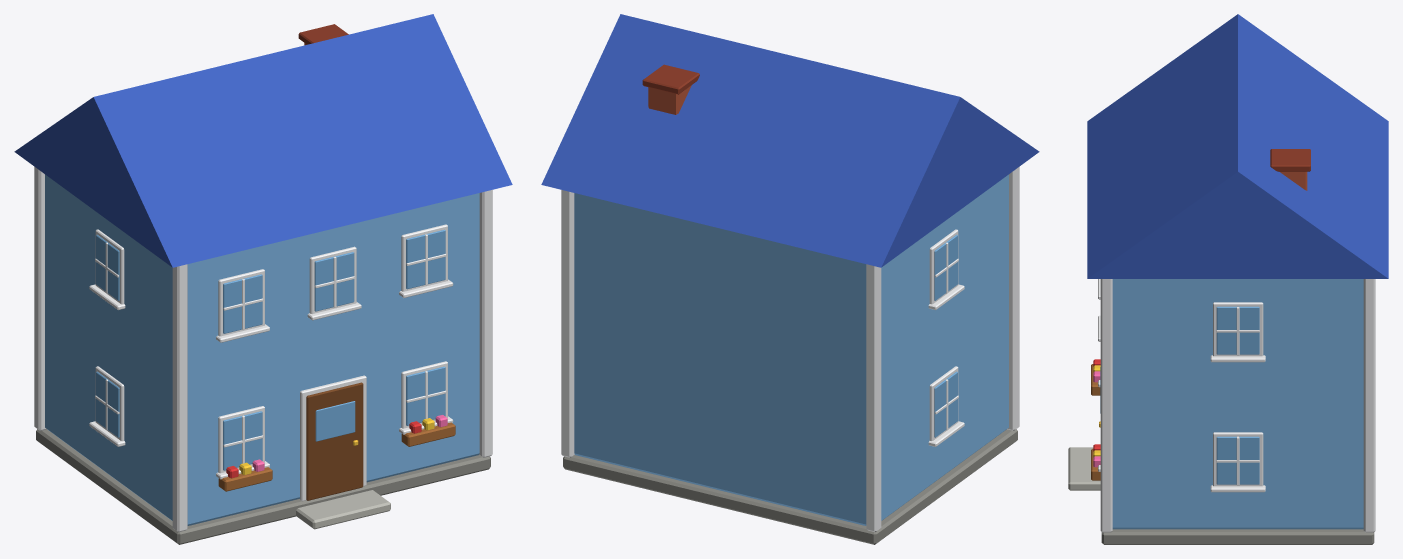
File: BlueTwoStoryHouse.fbx
3 renders of one model, left to right at view 1: azimuth 30°, elevation 25°; view 2: azimuth 150°, elevation 25°; view 3: azimuth 270°, elevation 25°, orthographic. The views are drawn at different scales.
Parts seen in each view (by area): view 1: BlueTwoStoryHouse; view 2: BlueTwoStoryHouse; view 3: BlueTwoStoryHouse.
Part boxes in pixels (left/top/right/bottom): BlueTwoStoryHouse: left=14, top=14, right=512, bottom=544; BlueTwoStoryHouse: left=541, top=14, right=1039, bottom=544; BlueTwoStoryHouse: left=1068, top=14, right=1388, bottom=544.
Size of the model in its own units: 15.6 by 17.55 by 13.4.
1 material, 1 textured.
